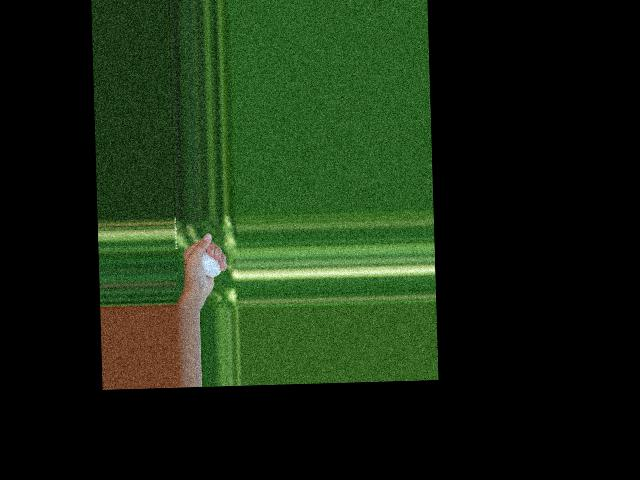egg: (202, 250, 221, 277)
